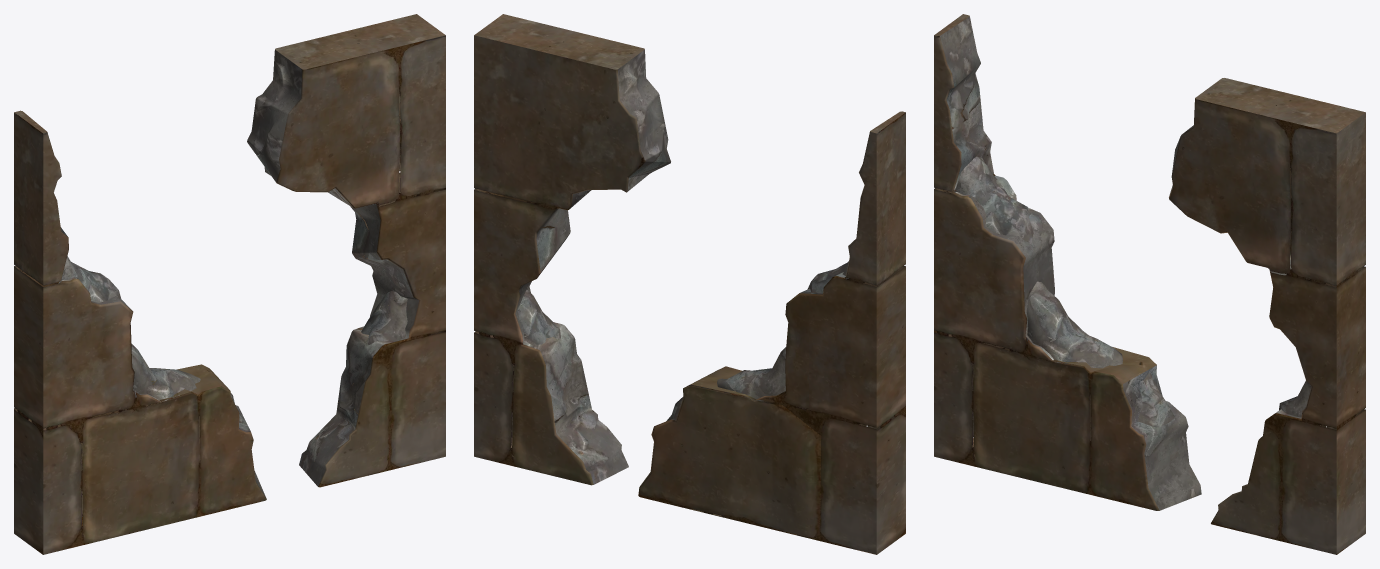
The picture shows the model from 3 angles, left to right: view 1: azimuth 30°, elevation 25°; view 2: azimuth 150°, elevation 25°; view 3: azimuth 330°, elevation 25°; orthographic projection.
Visible parts, largest first — view 1: SM_Vault_4x4_Dmg_Wall_01_V1_LOD0; view 2: SM_Vault_4x4_Dmg_Wall_01_V1_LOD0; view 3: SM_Vault_4x4_Dmg_Wall_01_V1_LOD0.
Boxes of the visible parts, bbox=[...] form: SM_Vault_4x4_Dmg_Wall_01_V1_LOD0: bbox=[14, 14, 445, 554]; SM_Vault_4x4_Dmg_Wall_01_V1_LOD0: bbox=[474, 14, 905, 554]; SM_Vault_4x4_Dmg_Wall_01_V1_LOD0: bbox=[934, 14, 1365, 554].
Size of the model in its own units: 4 by 4 by 0.5638.
Materials: 2 (2 with a texture image).
